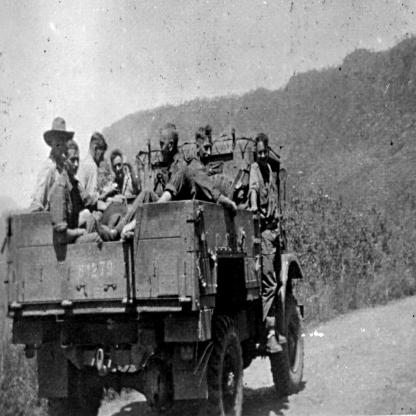Truck: (0, 128, 305, 415)
